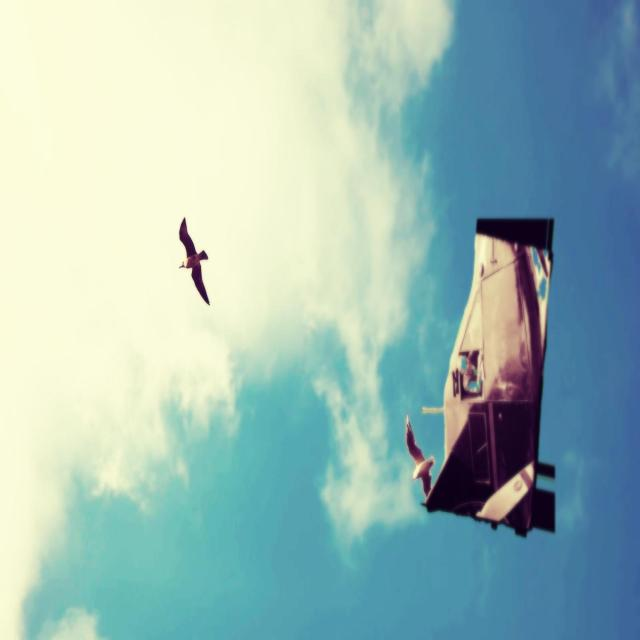airplane: (406, 215, 556, 538)
